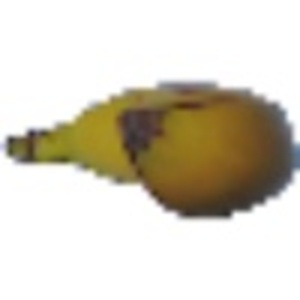banana: (8, 67, 299, 225)
